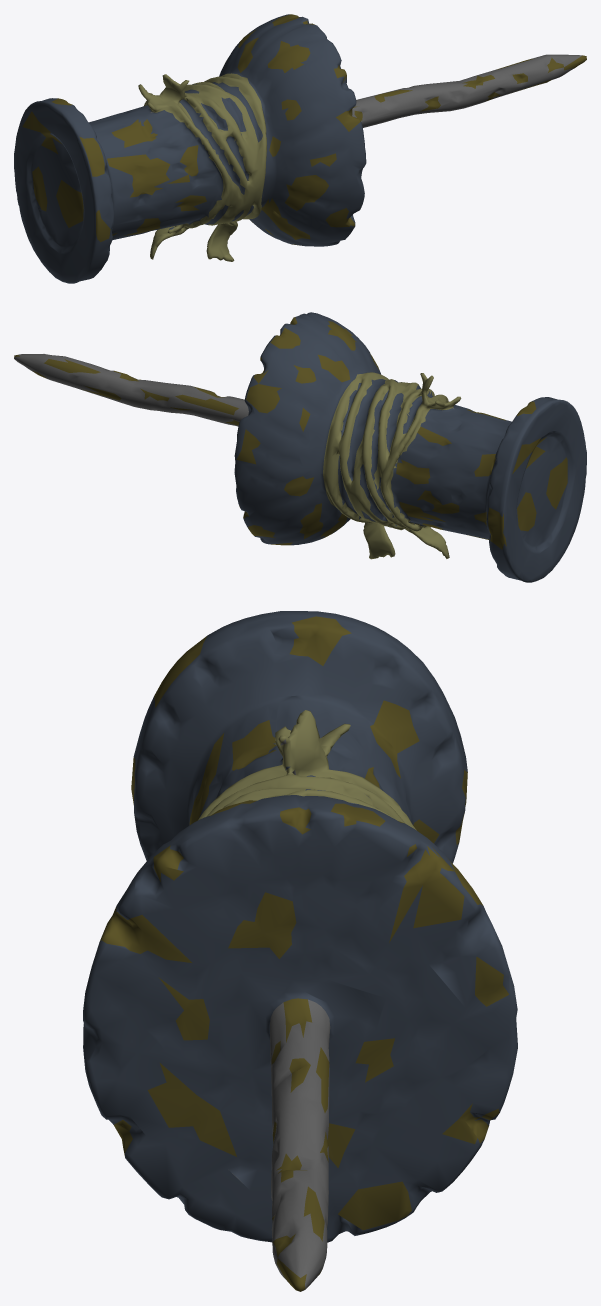
File: chincheta_01_pintado.fbx
3 views of the same model, one above another, from view 1: azimuth 30°, elevation 25°; view 2: azimuth 150°, elevation 25°; view 3: azimuth 270°, elevation 25° (orthographic). The views are drawn at different scales.
Visible parts, largest first — view 1: tmpxkerqqar.ply; view 2: tmpxkerqqar.ply; view 3: tmpxkerqqar.ply.
Part boxes in pixels (x1,y1,x2,y2): tmpxkerqqar.ply: [14, 14, 586, 283]; tmpxkerqqar.ply: [14, 312, 586, 582]; tmpxkerqqar.ply: [83, 611, 517, 1291].
Bounding box in the file's own units: 199 × 78.7 × 70.51.
